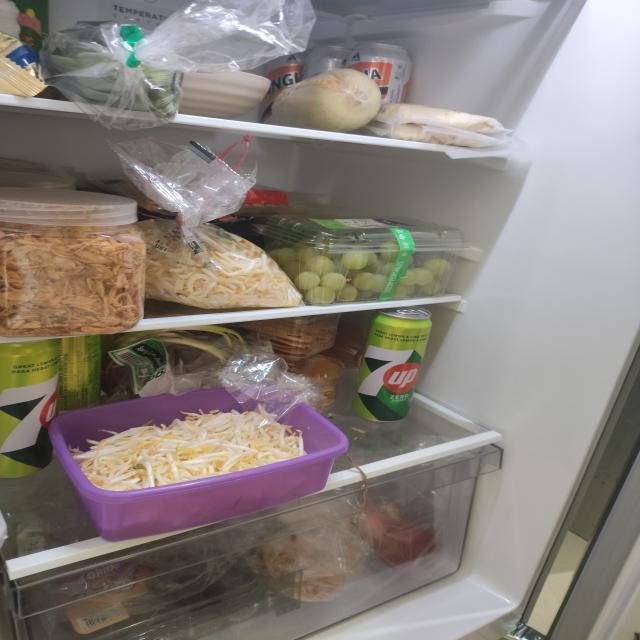bean_sprouts: (69, 403, 308, 491), (136, 218, 304, 308)
corn: (270, 67, 384, 134)
grape: (268, 235, 452, 307)
tempeh: (369, 102, 504, 148)
